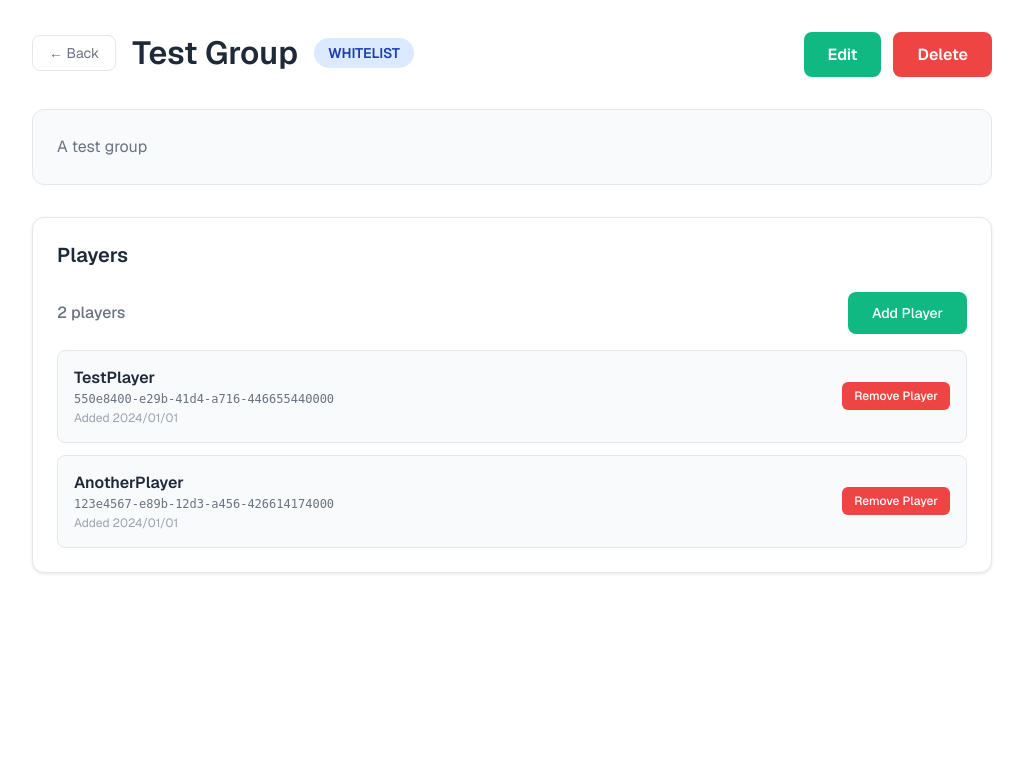
Scenario: GroupDetailPage › Loading States › should show loading during operations
Click the button "Add Player" at [907, 313], box [848,292,967,334]
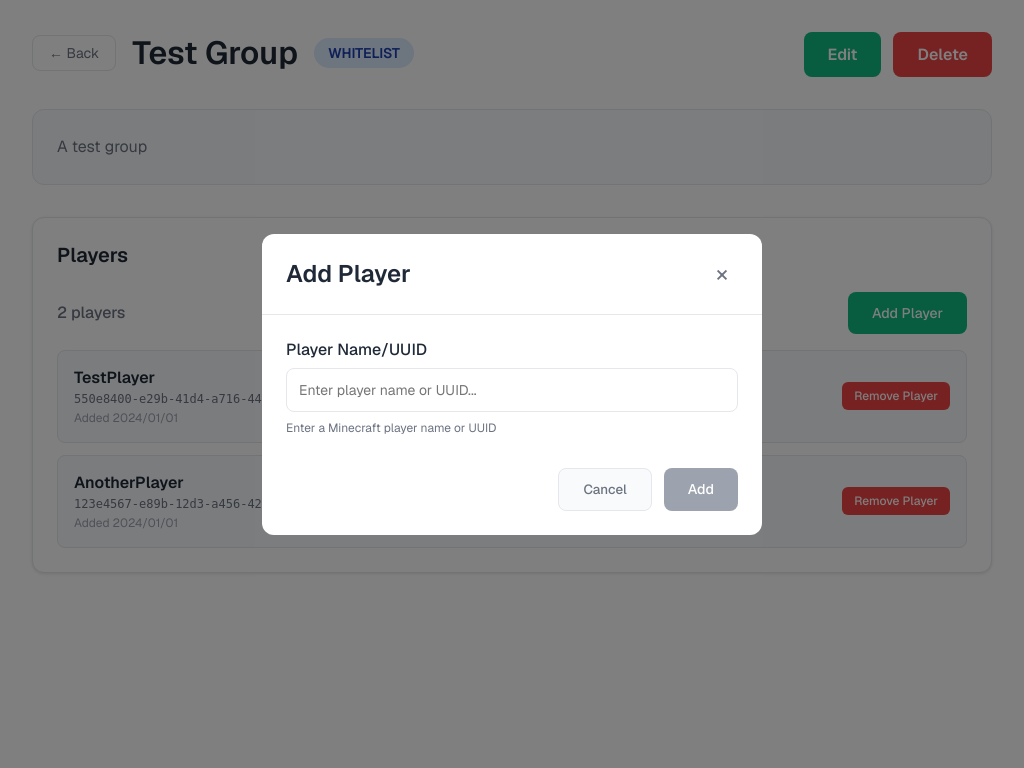
Type "TestPlayer" into the field with placeholder "Enter player name or UUID..." at [512, 390], box [286,368,738,412]
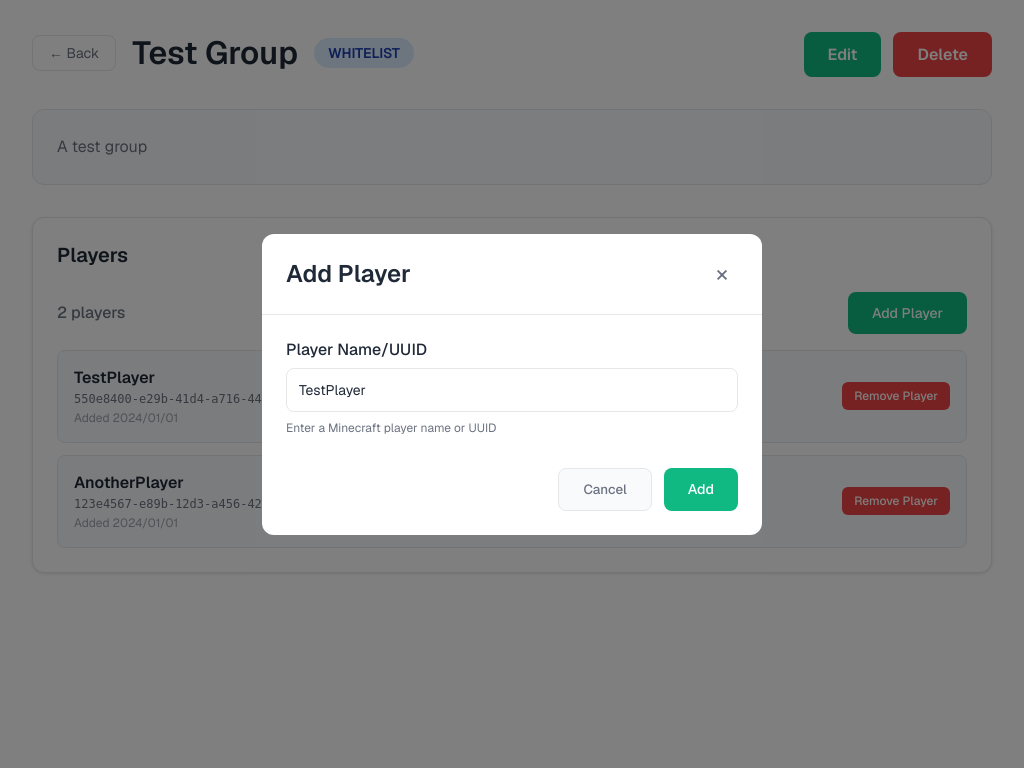
Click the button "Add" at [701, 489], box [664,468,738,510]
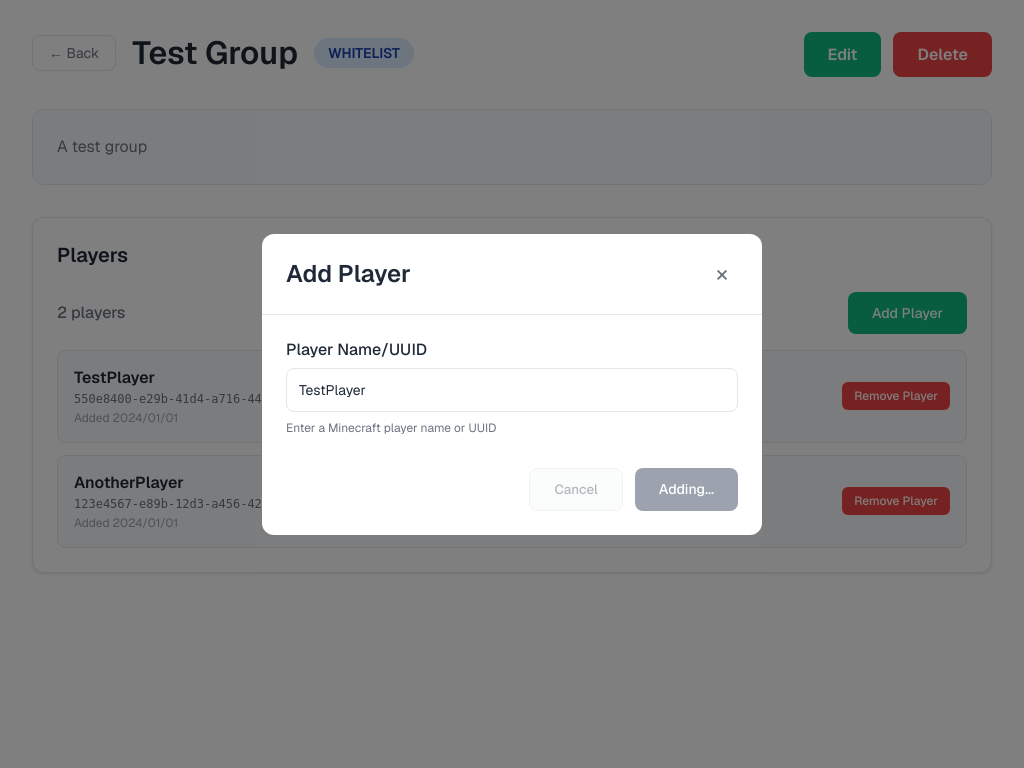
Check: the button "Adding..." is shown, box [635,468,738,510]
